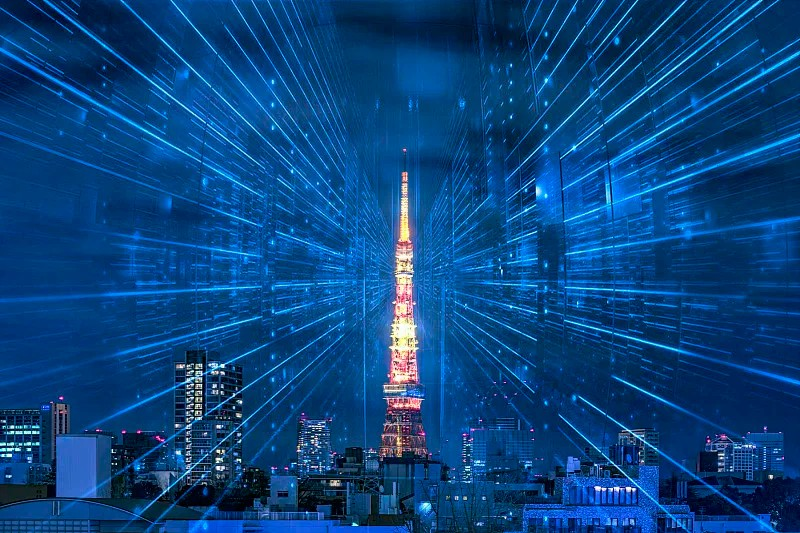Tokyo: (377, 146, 430, 462)
